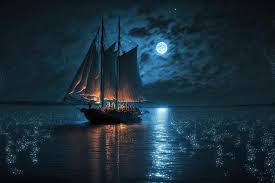boat: (66, 16, 152, 125)
